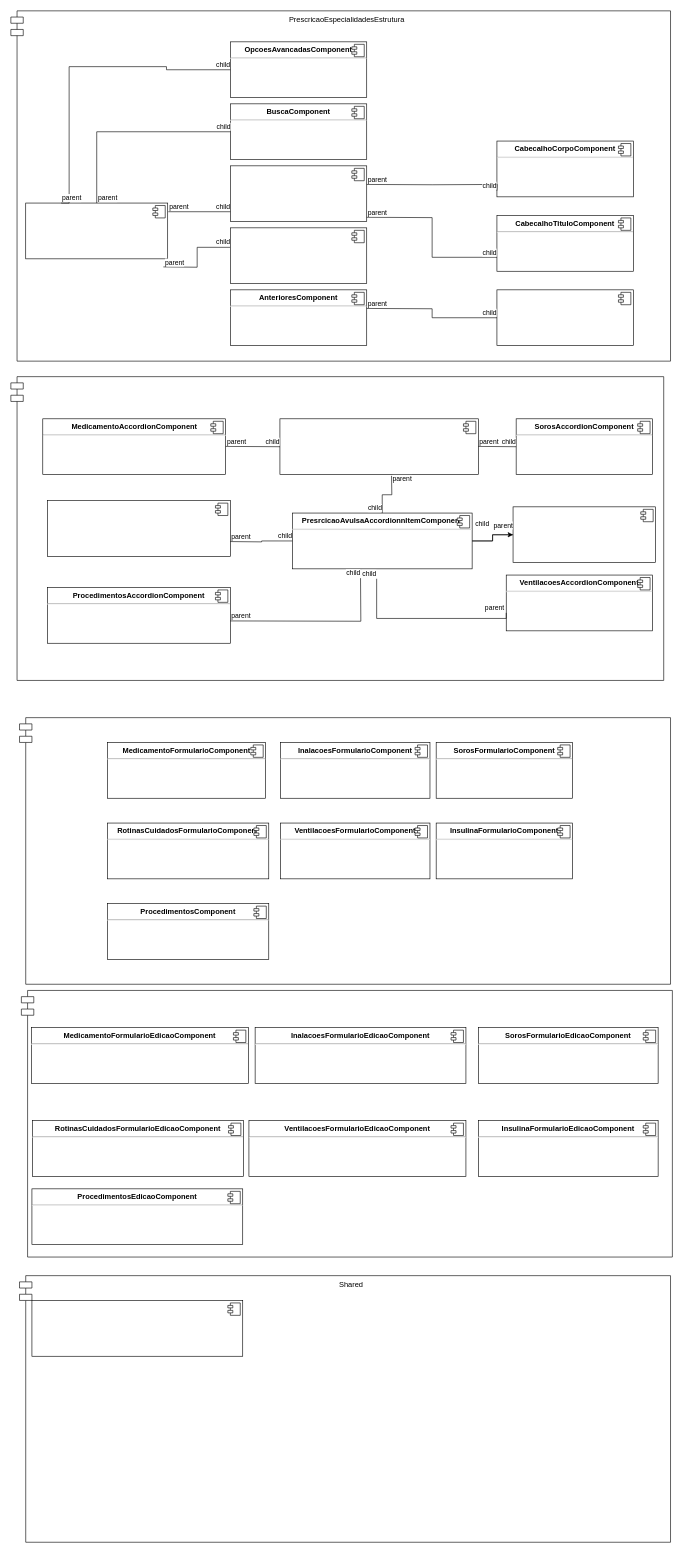
Image size: 683x1553. Some labels were removed from this diagram. The box of each missing label's shape, as (x1, y1, x2, y2) in pixels:
AnterioresItemComponent: (496, 289, 633, 346)
ButtonPlus: (31, 1300, 243, 1356)
CabecalhoComponent: (230, 165, 367, 222)
InalacoesAccordionComponent: (279, 418, 478, 475)
InsulinaAccordionComponent: (512, 506, 656, 563)
PrescricaoAulsaFormularioEdicao: (21, 990, 672, 1257)
PrescricaoAvulsaAccordion: (10, 376, 664, 680)
PrescricaoAvulsaFormulario: (19, 717, 671, 984)
PrescricaoEspecialidades Component: (25, 202, 168, 259)
RodapeComponent: (230, 227, 367, 284)
RotinasCuidadosAccordionComponent: (47, 500, 230, 556)
